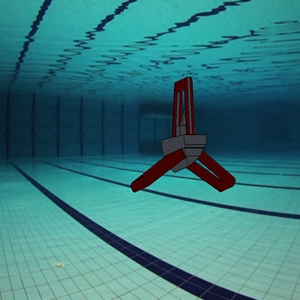submarine: (124, 72, 250, 203)
